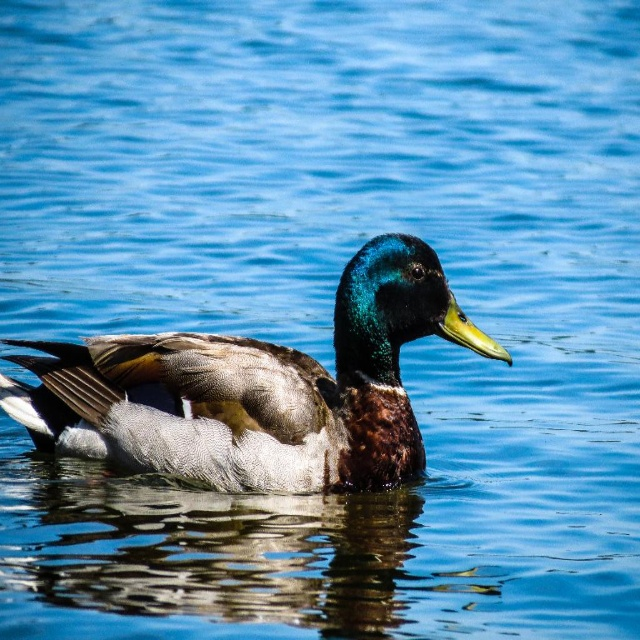Duck: (0, 232, 513, 495)
